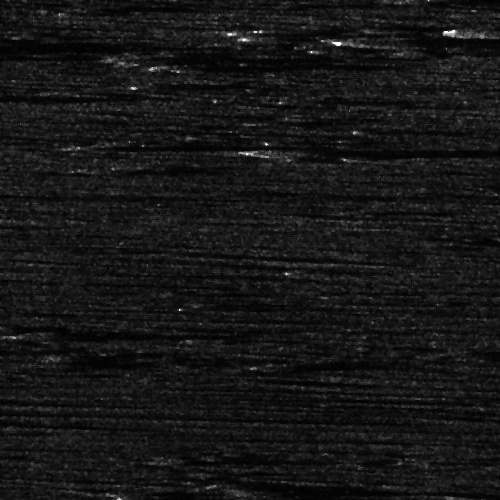object: (430, 342, 500, 361), (433, 26, 486, 35), (147, 455, 188, 464), (158, 455, 199, 464), (0, 94, 20, 99), (81, 497, 102, 500)
shadow: (0, 483, 288, 492), (167, 455, 362, 464), (179, 455, 373, 464), (92, 497, 411, 500), (0, 94, 171, 99), (477, 342, 500, 361), (0, 345, 19, 352)
